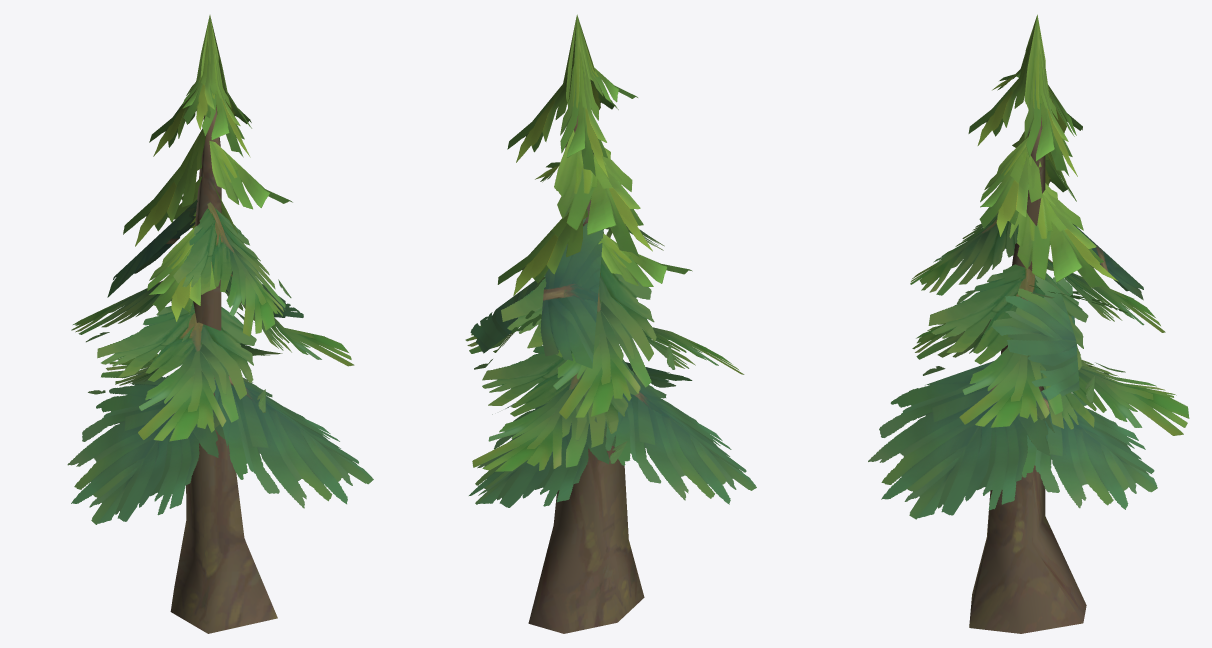
Rendered from main_map_tree_03f.FBX.
The picture shows the model from 3 angles, left to right: view 1: azimuth 30°, elevation 25°; view 2: azimuth 150°, elevation 25°; view 3: azimuth 270°, elevation 25°; orthographic projection.
Visible parts, largest first — view 1: main_map_tree_03f; view 2: main_map_tree_03f; view 3: main_map_tree_03f.
Part boxes in pixels (x1,y1,x2,y2): main_map_tree_03f: (67,15,373,633); main_map_tree_03f: (465,14,756,633); main_map_tree_03f: (868,14,1189,633).
Bounding box in the file's own units: 128 × 214 × 125.
